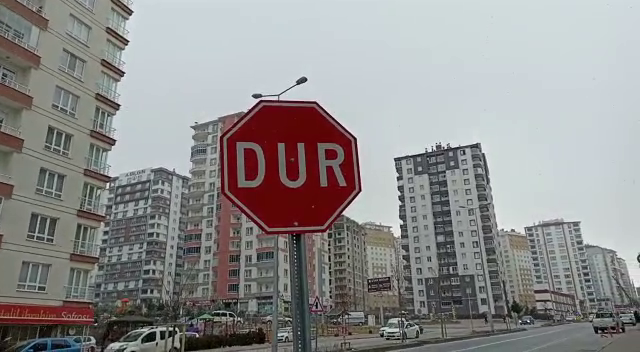stop: (216, 98, 367, 238)
